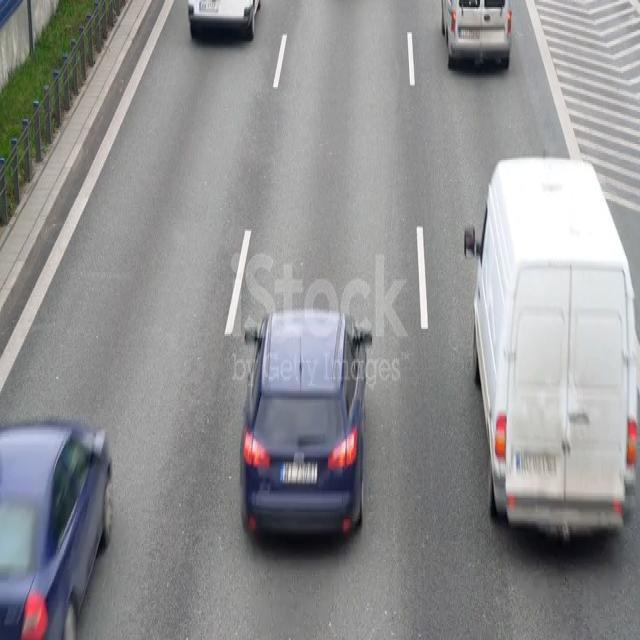Car: (238, 309, 368, 542), (0, 407, 120, 639), (439, 0, 517, 71), (185, 0, 266, 53)
Truck: (468, 142, 640, 551)
